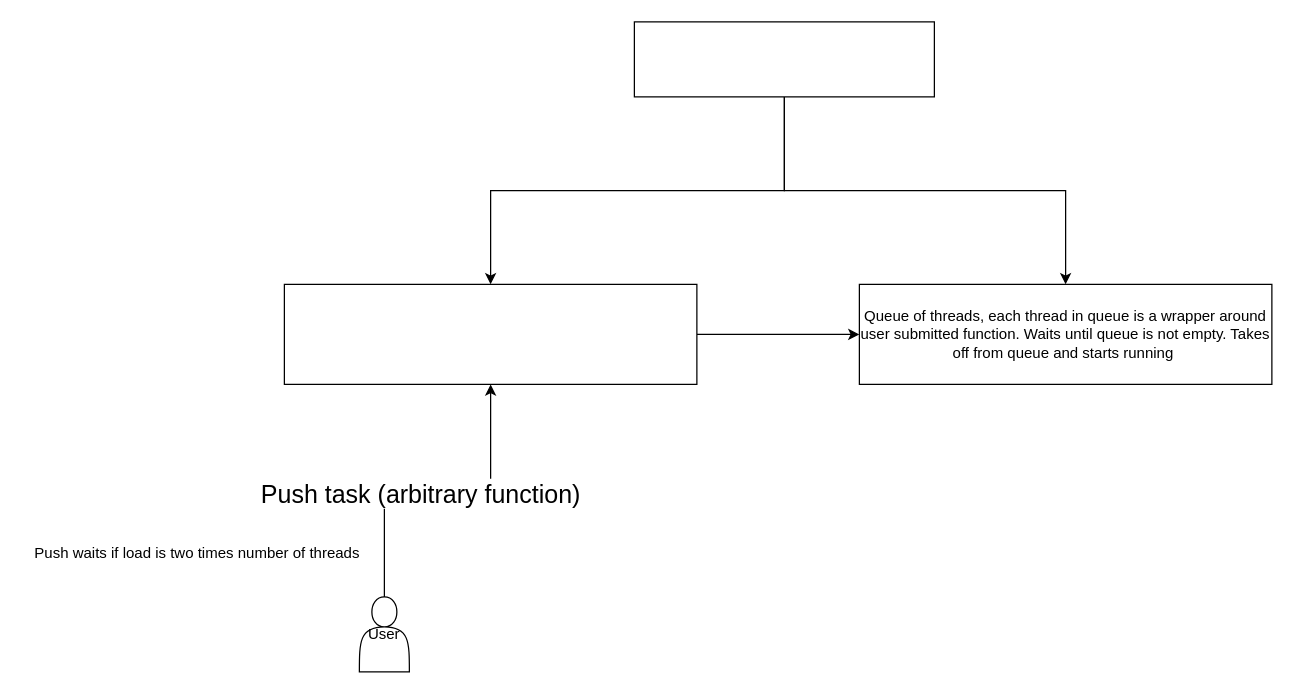
Image size: 1294x694. Some labels were removed from this diagram. The shapes that lost their labels are listed below. From the top down, each one's box as (x1, y1, x2, y2) in pixels, then its label:
(633, 21, 934, 97): Constructor
(283, 283, 697, 384): Queue of tasks (two times queue of threads)
